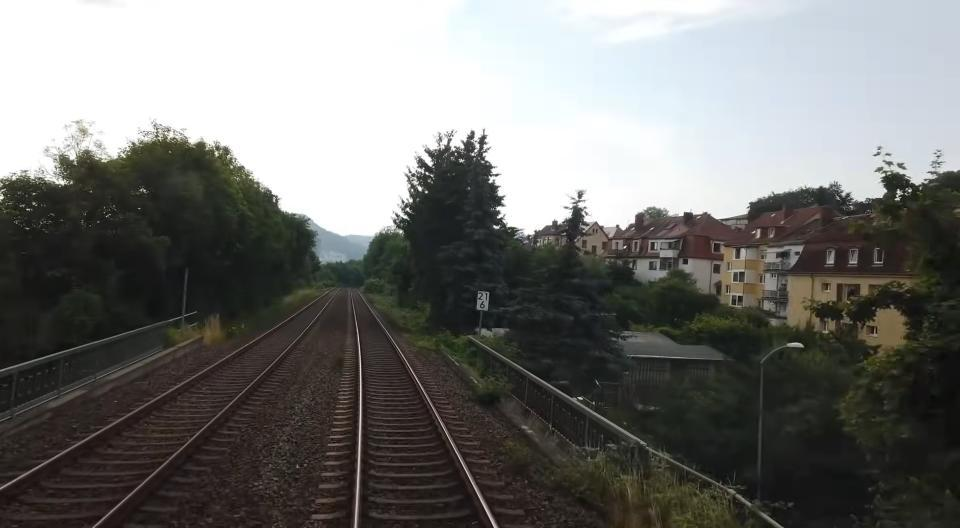Plant: (560, 446, 762, 528), (364, 288, 426, 335), (504, 440, 542, 475), (476, 376, 508, 405), (202, 314, 224, 343), (406, 335, 442, 351)
